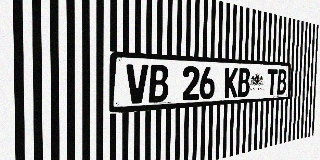2: (182, 66, 199, 101)
6: (199, 66, 215, 100)
B: (149, 65, 169, 103), (237, 68, 250, 97), (277, 69, 287, 95)
K: (224, 67, 238, 98)
T: (267, 69, 277, 95)
V: (126, 64, 148, 104)
